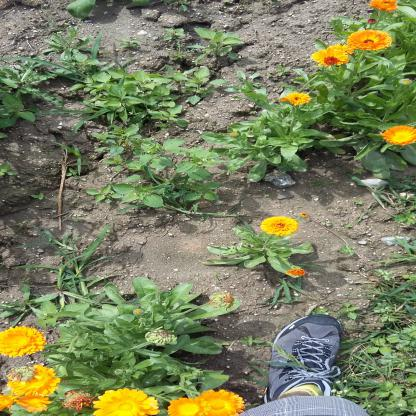marigold: (390, 256, 416, 320), (366, 356, 395, 407), (390, 173, 415, 222), (328, 374, 356, 416), (31, 26, 50, 66), (125, 0, 146, 34), (218, 118, 236, 154), (50, 66, 65, 104), (395, 367, 412, 398), (399, 215, 415, 247), (92, 106, 104, 130)
